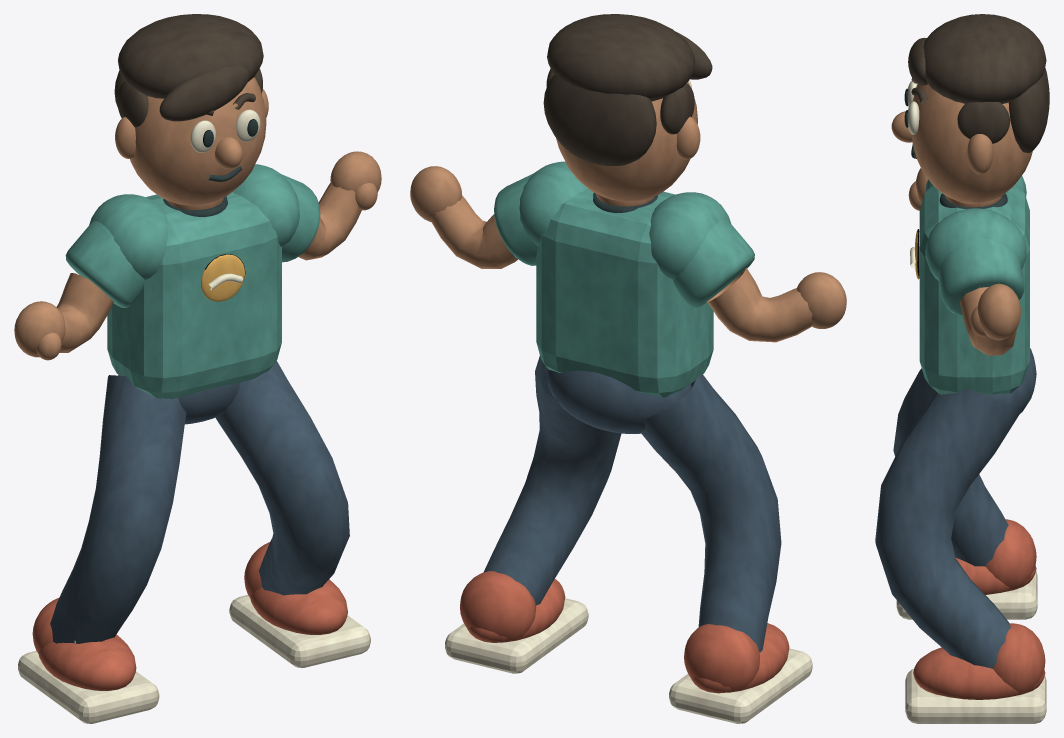
The model's file is skater.glb.
The picture shows the model from 3 angles, left to right: view 1: azimuth 30°, elevation 25°; view 2: azimuth 150°, elevation 25°; view 3: azimuth 270°, elevation 25°; orthographic projection. The views are drawn at different scales.
Visible parts, largest first — view 1: skater_textured_mesh; view 2: skater_textured_mesh; view 3: skater_textured_mesh.
Part boxes in pixels (x1=…): skater_textured_mesh: x1=14, y1=14, x2=381, y2=723; skater_textured_mesh: x1=410, y1=14, x2=846, y2=723; skater_textured_mesh: x1=875, y1=14, x2=1049, y2=723.
Bounding box in the file's own units: 2.04 × 3.16 × 0.7924.
1 material, 1 textured.
